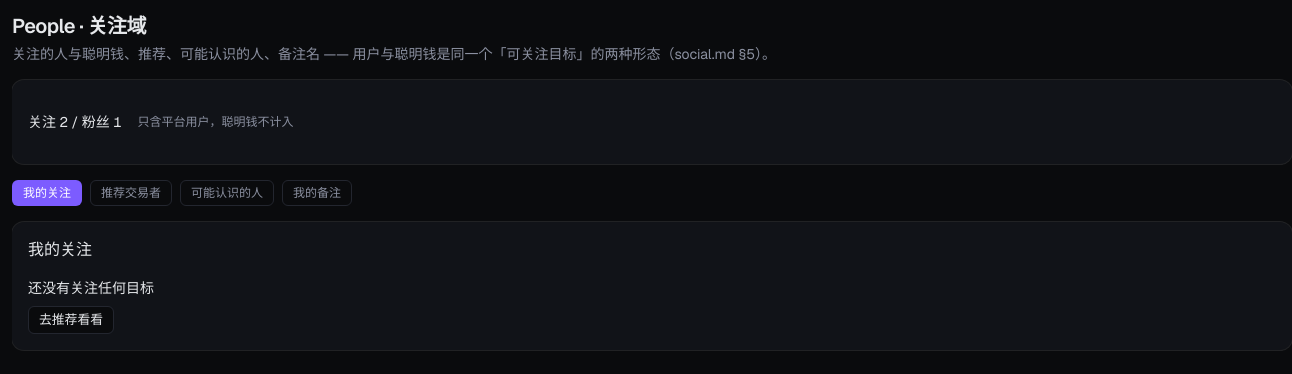
Test case: PeopleView 推荐交易者（§5.4） › pnl_usd 按字符串格式化；Follow 成功置灰并重拉计数
Click the button "推荐交易者": click(131, 193) [90,180,172,206]
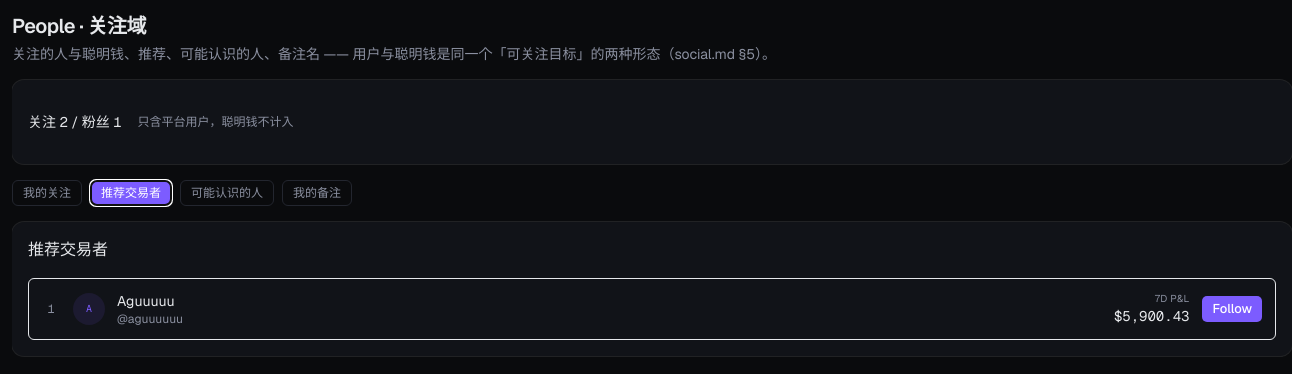
Expected: the text "$5,900.43" is shown, [1114,306,1190,326]
Click the button "Follow": click(1232, 309) [1202,295,1263,323]
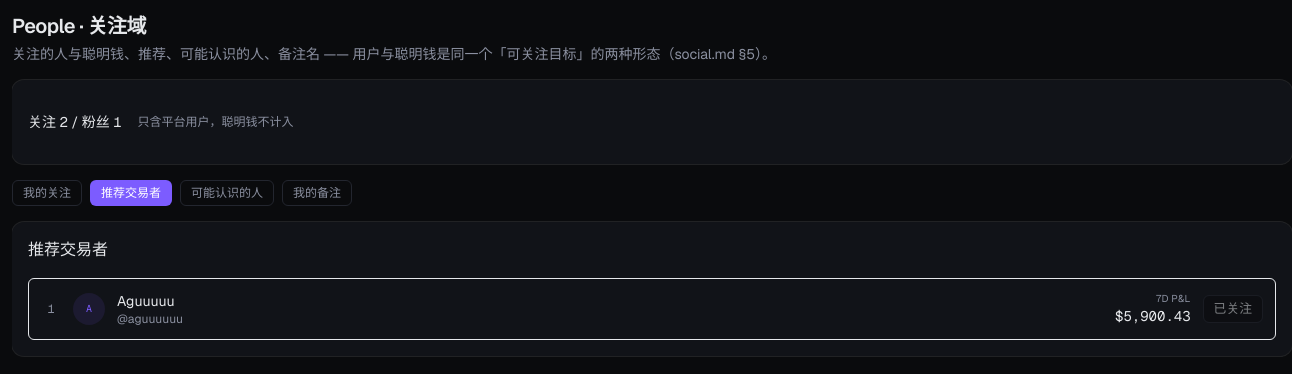
Expected: the button "已关注" is shown, [1203,295,1263,323]
